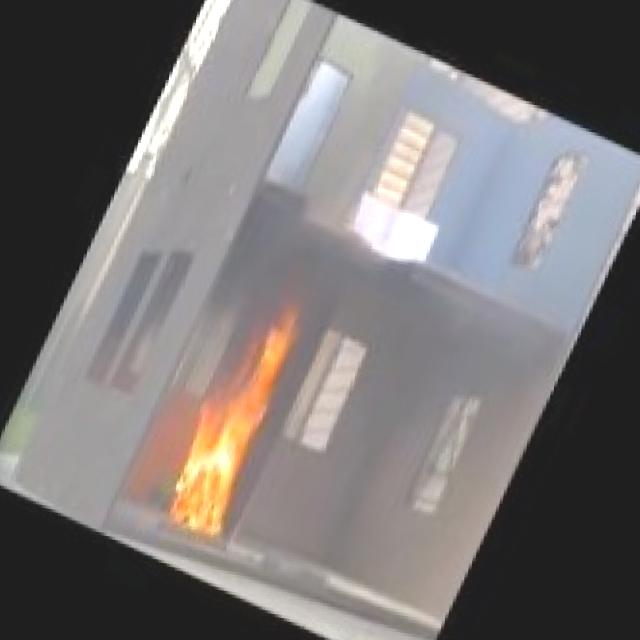fire: (128, 259, 335, 558)
